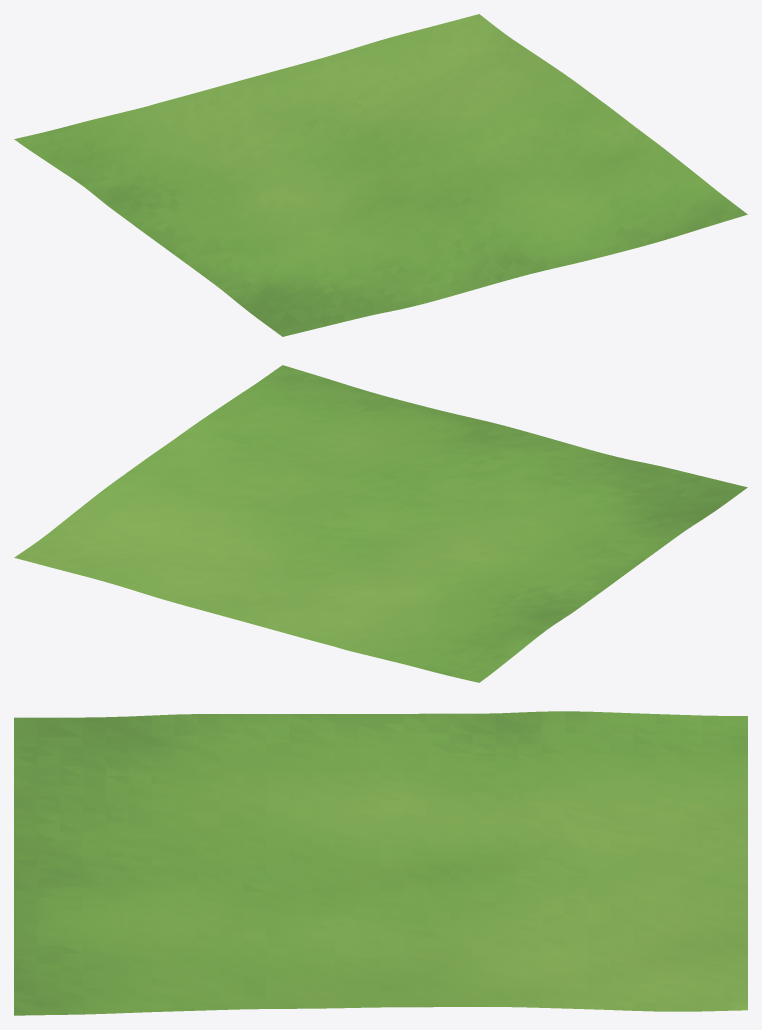
Rendered from terrain_r1_c3.glb.
The picture shows the model from 3 angles, top to bottom: view 1: azimuth 30°, elevation 25°; view 2: azimuth 150°, elevation 25°; view 3: azimuth 270°, elevation 25°; orthographic projection. The views are drawn at different scales.
Visible parts, largest first — view 1: terrain_r1_c3; view 2: terrain_r1_c3; view 3: terrain_r1_c3.
Boxes of the visible parts, x1=… form: terrain_r1_c3: x1=14, y1=14, x2=747, y2=336; terrain_r1_c3: x1=14, y1=365, x2=747, y2=682; terrain_r1_c3: x1=14, y1=711, x2=747, y2=1015.
Bounding box in the file's own units: 128 × 4.39 × 128.
1 material, 1 textured.
